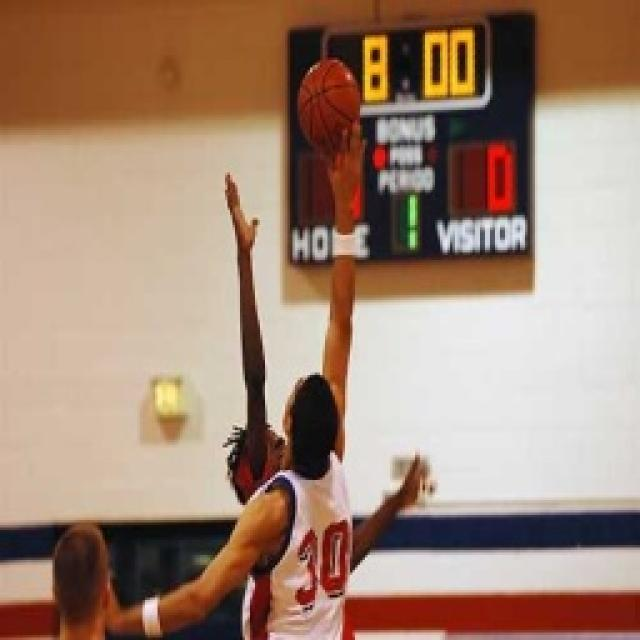rim: (292, 51, 363, 153)
